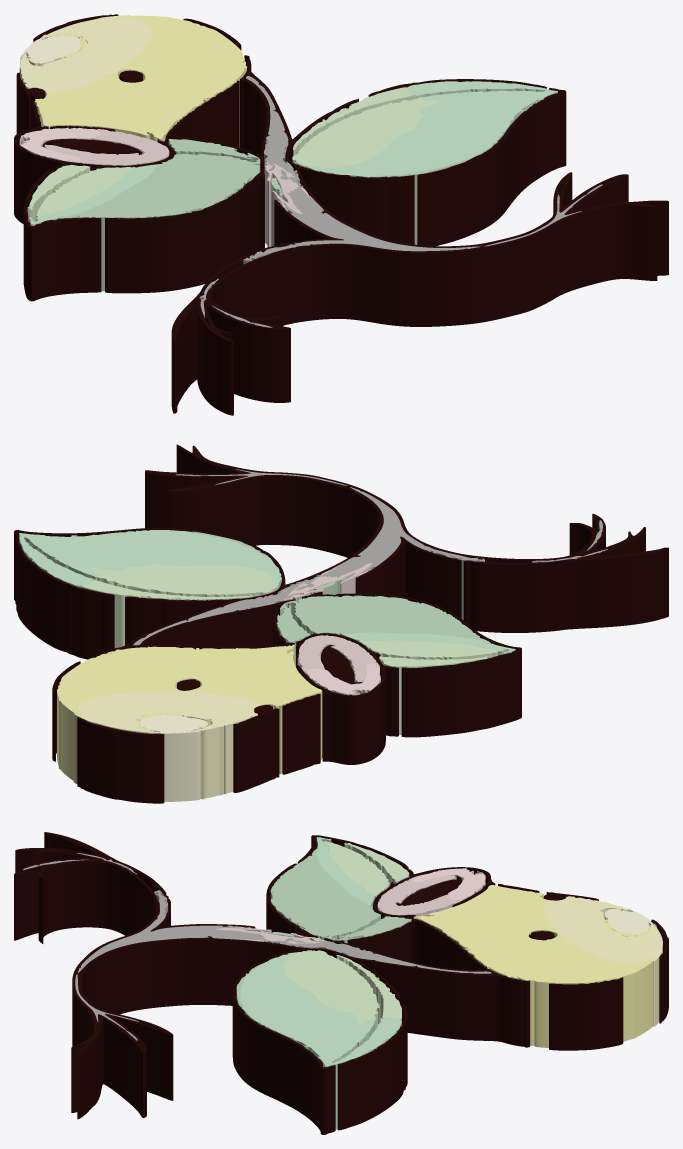
The picture shows the model from 3 angles, top to bottom: view 1: azimuth 30°, elevation 25°; view 2: azimuth 150°, elevation 25°; view 3: azimuth 270°, elevation 25°; orthographic projection. The views are drawn at different scales.
Visible parts, largest first — view 1: imagetostl_mesh8, imagetostl_mesh1, imagetostl_mesh16, imagetostl_mesh14, imagetostl_mesh5, imagetostl_mesh49, imagetostl_mesh18, imagetostl_mesh9, imagetostl_mesh55, imagetostl_mesh41, imagetostl_mesh57, imagetostl_mesh24 (+18 smaller); view 2: imagetostl_mesh8, imagetostl_mesh1, imagetostl_mesh18, imagetostl_mesh5, imagetostl_mesh22, imagetostl_mesh49, imagetostl_mesh30, imagetostl_mesh12, imagetostl_mesh9, imagetostl_mesh55, imagetostl_mesh20, imagetostl_mesh41 (+18 smaller); view 3: imagetostl_mesh8, imagetostl_mesh1, imagetostl_mesh5, imagetostl_mesh14, imagetostl_mesh49, imagetostl_mesh34, imagetostl_mesh9, imagetostl_mesh22, imagetostl_mesh55, imagetostl_mesh41, imagetostl_mesh0, imagetostl_mesh57 (+17 smaller).
Part boxes in pixels (x1,y1,x2,y2): imagetostl_mesh8: (171, 55, 668, 415); imagetostl_mesh1: (35, 15, 246, 139); imagetostl_mesh16: (105, 170, 264, 293); imagetostl_mesh14: (417, 88, 566, 246); imagetostl_mesh5: (297, 81, 557, 176); imagetostl_mesh49: (58, 139, 260, 218); imagetostl_mesh18: (23, 170, 101, 301); imagetostl_mesh9: (171, 55, 668, 341); imagetostl_mesh55: (20, 15, 152, 98); imagetostl_mesh41: (292, 98, 440, 168); imagetostl_mesh57: (243, 76, 480, 260); imagetostl_mesh24: (165, 82, 239, 147); imagetostl_mesh8: (95, 445, 668, 657); imagetostl_mesh1: (57, 644, 321, 716); imagetostl_mesh18: (401, 629, 521, 737); imagetostl_mesh5: (19, 530, 281, 588); imagetostl_mesh22: (16, 539, 114, 659); imagetostl_mesh49: (277, 595, 490, 643); imagetostl_mesh30: (77, 718, 164, 803); imagetostl_mesh12: (296, 634, 398, 764); imagetostl_mesh9: (95, 444, 668, 655); imagetostl_mesh55: (74, 691, 271, 732); imagetostl_mesh20: (355, 542, 461, 618); imagetostl_mesh41: (91, 564, 277, 594); imagetostl_mesh8: (14, 833, 529, 1119); imagetostl_mesh1: (414, 885, 656, 982); imagetostl_mesh5: (240, 950, 401, 1066); imagetostl_mesh14: (232, 986, 335, 1134); imagetostl_mesh49: (270, 848, 411, 940); imagetostl_mesh34: (549, 978, 623, 1050); imagetostl_mesh9: (14, 832, 529, 1053); imagetostl_mesh22: (337, 1005, 407, 1130); imagetostl_mesh55: (540, 896, 662, 963); imagetostl_mesh41: (283, 950, 379, 1024); imagetostl_mesh0: (413, 894, 653, 1047); imagetostl_mesh57: (77, 890, 491, 973).
Size of the model in its own units: 77.82 by 10 by 90.7.
